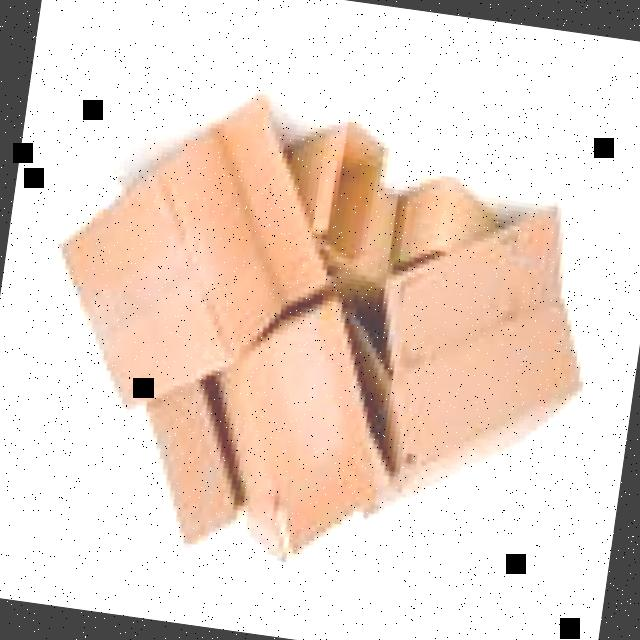cardboard_box: (32, 73, 338, 420), (140, 298, 380, 566), (368, 206, 573, 518)
